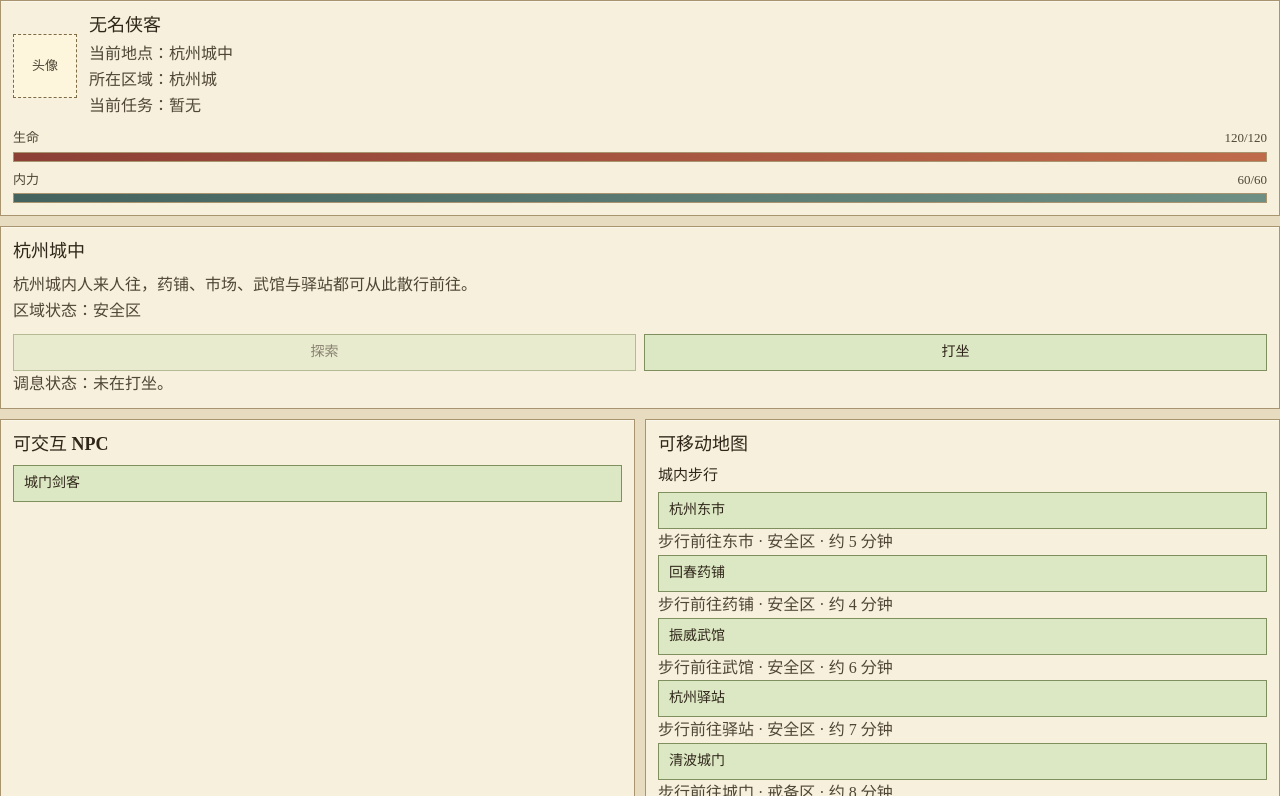
ScenePage › updates the visible scene immediately after switching maps
The width and height of the screenshot is (1280, 796).
Expected: the heading "杭州城中" is shown, [13,241,85,261]
Expected: the button "探索" is disabled, [13,334,636,371]
Click the button "清波城门": (697,761) [658,743,1267,780]
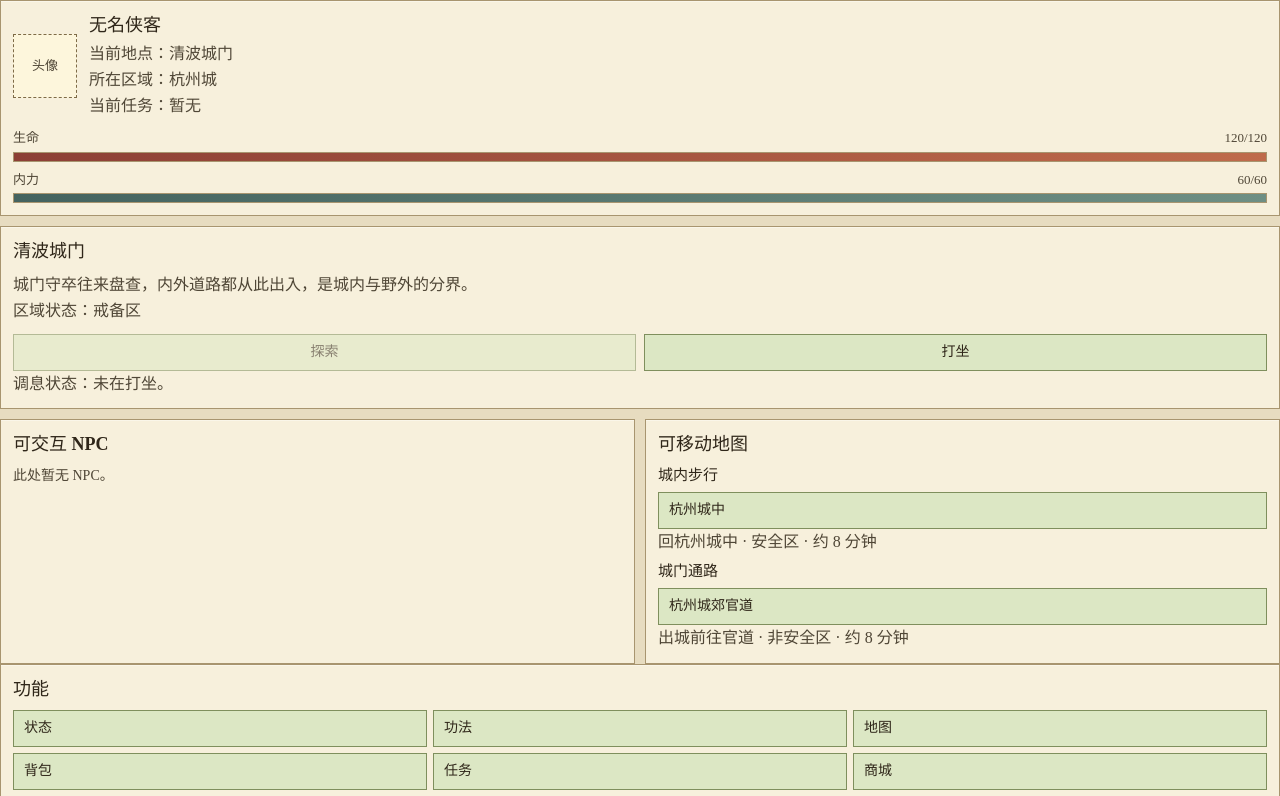
Expected: the button "探索" is disabled, [13,334,636,371]
Result: the heading "清波城门" is shown at [13,241,85,261]
Result: the text "区域状态：戒备区" is shown at [13,302,141,319]
